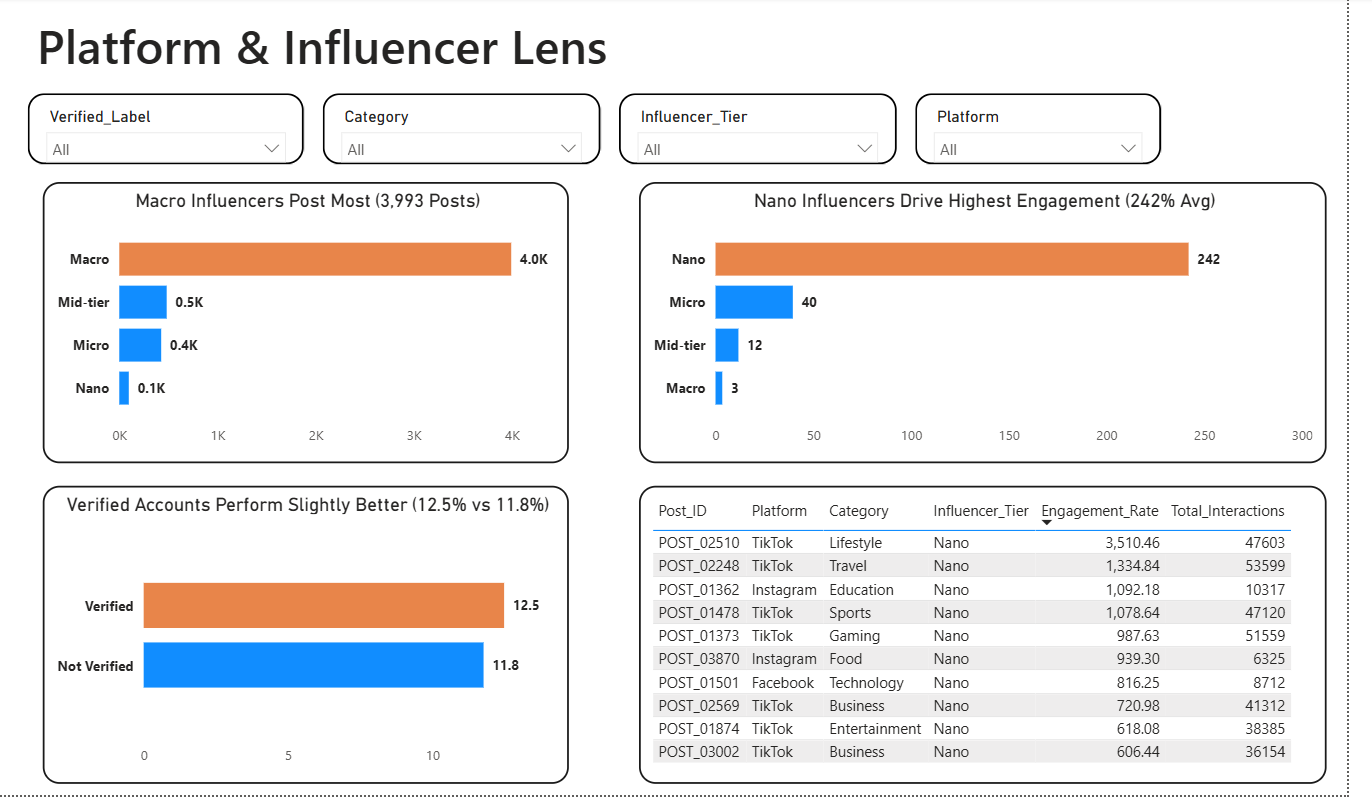

The page's visual inventory and layout, read from the dashboard file:
{"tool":"powerbi","page":{"name":"Platform & Influencer Lens","canvas":[1280,720],"ordinal":2},"visuals":[{"type":"barChart","title":"Macro Influencers Post Most (3,993 Posts)","fields":{"Category":["posts.Influencer_Tier"],"Y":["CountNonNull(posts.Post_ID)"]},"box":[111.6,166.3,474.4,253.5],"z":0},{"type":"barChart","title":"Nano Influencers Drive Highest Engagement (242% Avg)","fields":{"Category":["posts.Influencer_Tier"],"Y":["posts.Avg Engagement Rate"]},"box":[648.8,166.3,619.8,253.5],"z":1000},{"type":"clusteredBarChart","title":"Verified Accounts Perform Slightly Better (12.5% vs 11.8%)","fields":{"Category":["posts.Verified_Label"],"Y":["posts.Avg Engagement Rate"]},"box":[111.6,440.7,474.4,268.6],"z":2000},{"type":"tableEx","fields":{"Values":["posts.Post_ID","posts.Platform","posts.Category","posts.Influencer_Tier","posts.Engagement_Rate","posts.Total_Interactions"]},"box":[648.8,440.7,619.8,268.6],"z":3000},{"type":"textbox","box":[101.2,9.3,547.7,68.6],"z":4000},{"type":"slicer","fields":{"Values":["posts.Platform"]},"box":[898.7,87.2,221.2,64],"z":5000},{"type":"slicer","fields":{"Values":["posts.Category"]},"box":[364.4,87.2,250.5,64],"z":6000},{"type":"slicer","fields":{"Values":["posts.Influencer_Tier"]},"box":[631.5,87.2,250.5,64],"z":7000},{"type":"slicer","fields":{"Values":["posts.Verified_Label"]},"box":[98.6,87.2,249.1,64],"z":8000}]}

Visuals, with their boxes in screenshot pixels (x1, y1, x2, y2):
"Macro Influencers Post Most (3,993 Posts)" barChart: detection(47, 179, 567, 456)
"Nano Influencers Drive Highest Engagement (242% Avg)" barChart: detection(636, 179, 1315, 456)
"Verified Accounts Perform Slightly Better (12.5% vs 11.8%)" clusteredBarChart: detection(47, 479, 567, 774)
tableEx - posts.Post_ID x posts.Platform: detection(636, 479, 1315, 774)
textbox: detection(36, 7, 636, 82)
slicer - posts.Platform: detection(910, 92, 1152, 162)
slicer - posts.Category: detection(324, 92, 599, 162)
slicer - posts.Influencer_Tier: detection(617, 92, 892, 162)
slicer - posts.Verified_Label: detection(33, 92, 306, 162)
